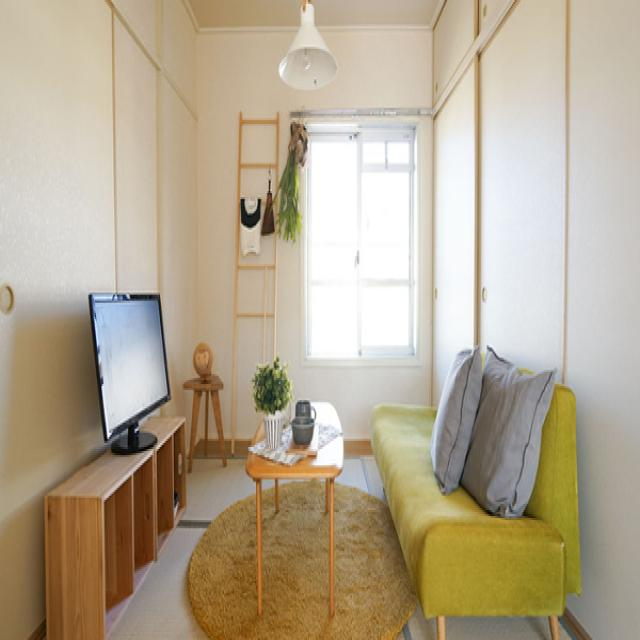modern desk: (242, 391, 347, 616)
modern shelf: (37, 408, 188, 636)
modern sofa: (359, 346, 581, 640)
